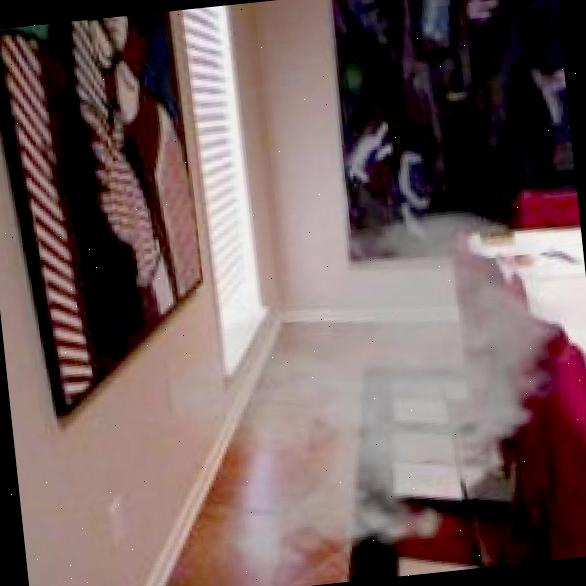smoke: (148, 189, 586, 586)
